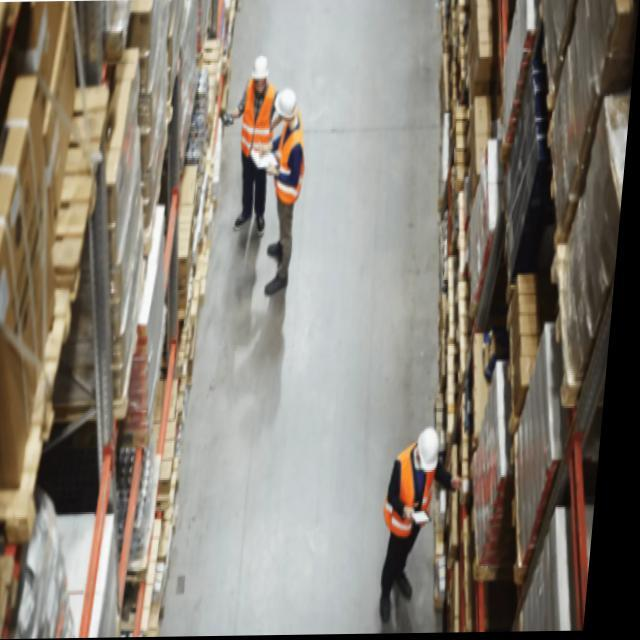boots: (372, 570, 416, 625), (263, 239, 294, 299), (234, 201, 270, 236)
helmet: (415, 427, 443, 477), (271, 85, 300, 128), (248, 53, 272, 96)
vest: (388, 442, 438, 538), (271, 107, 311, 206), (236, 79, 278, 166)
